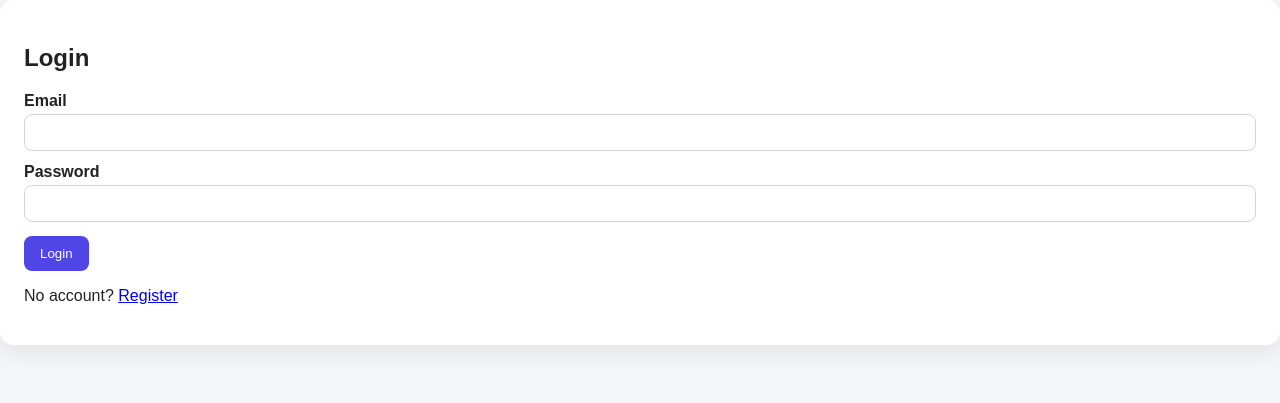
Login form › shows an error message when login fails
Type "wrong@campus.edu" into the field labelled "Email" at (640, 132), box [24, 114, 1256, 151]
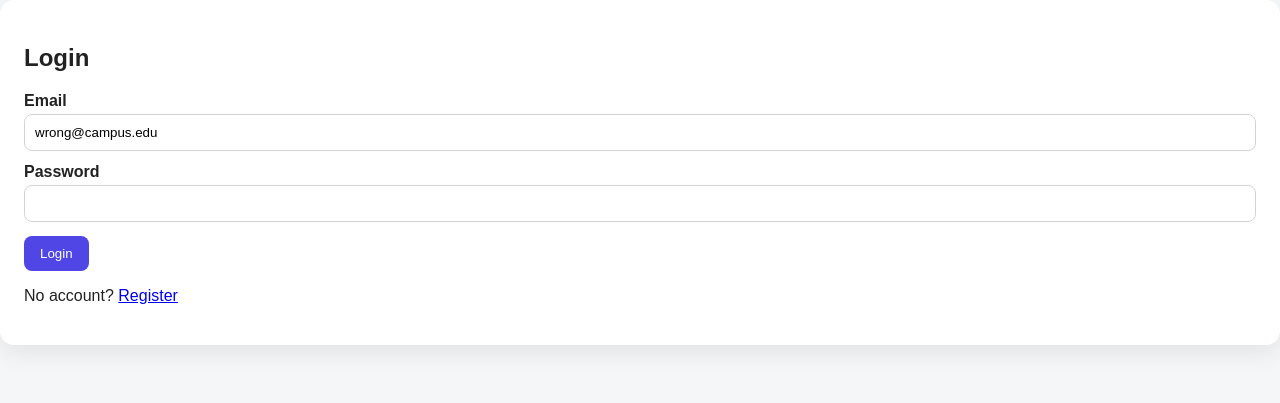
Type "badpassword" into the password field labelled "Password" at (640, 203), box [24, 185, 1256, 222]
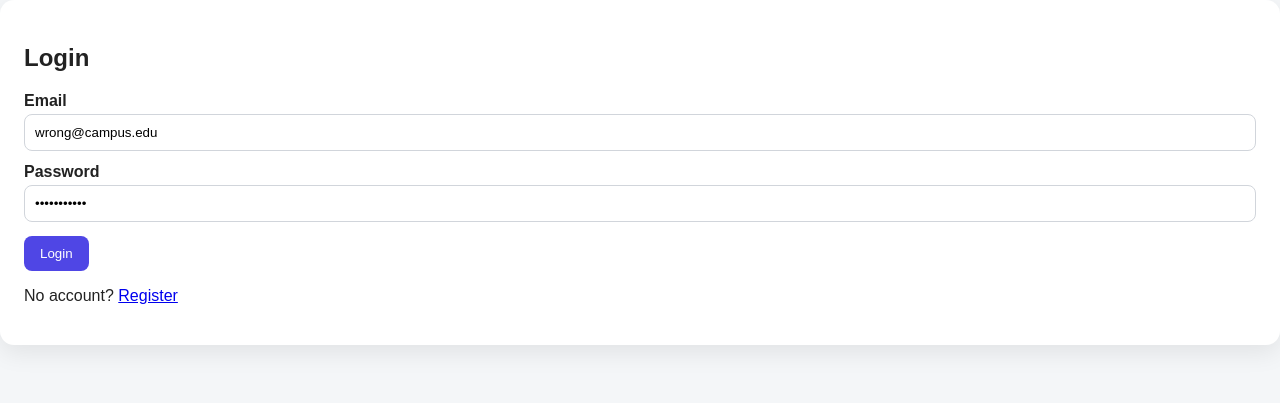
Click the button "Login" at (56, 253), box [24, 236, 89, 271]
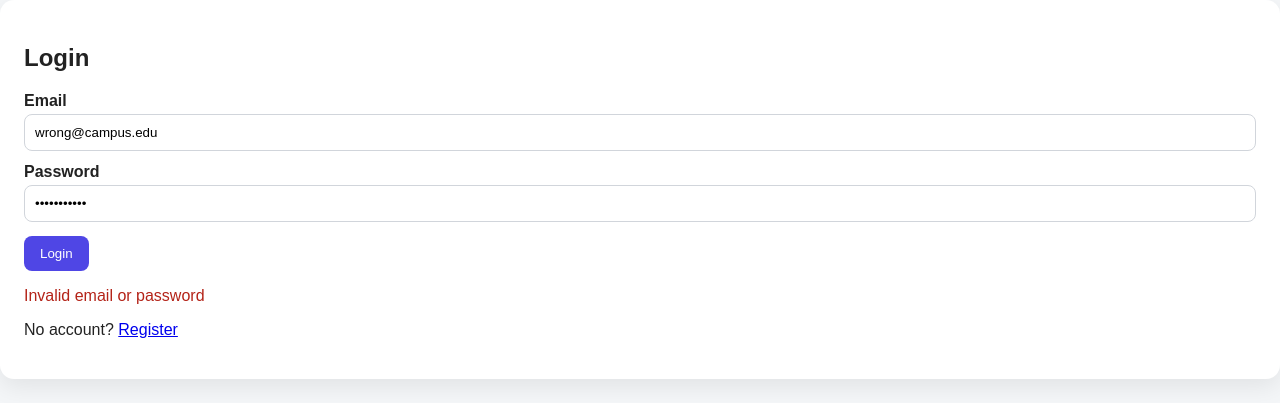
Expected: the message reads "Invalid email or password", [24, 287, 204, 304]
